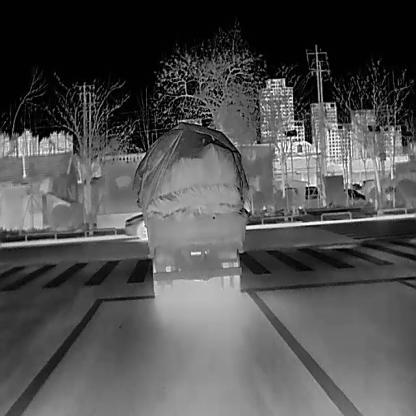car: (304, 185, 318, 199)
truck: (132, 122, 250, 296), (319, 173, 343, 206)
